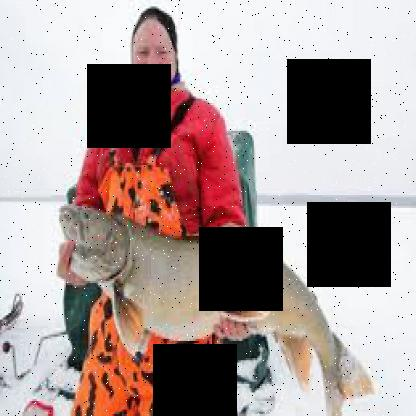fish: (55, 198, 371, 408)
